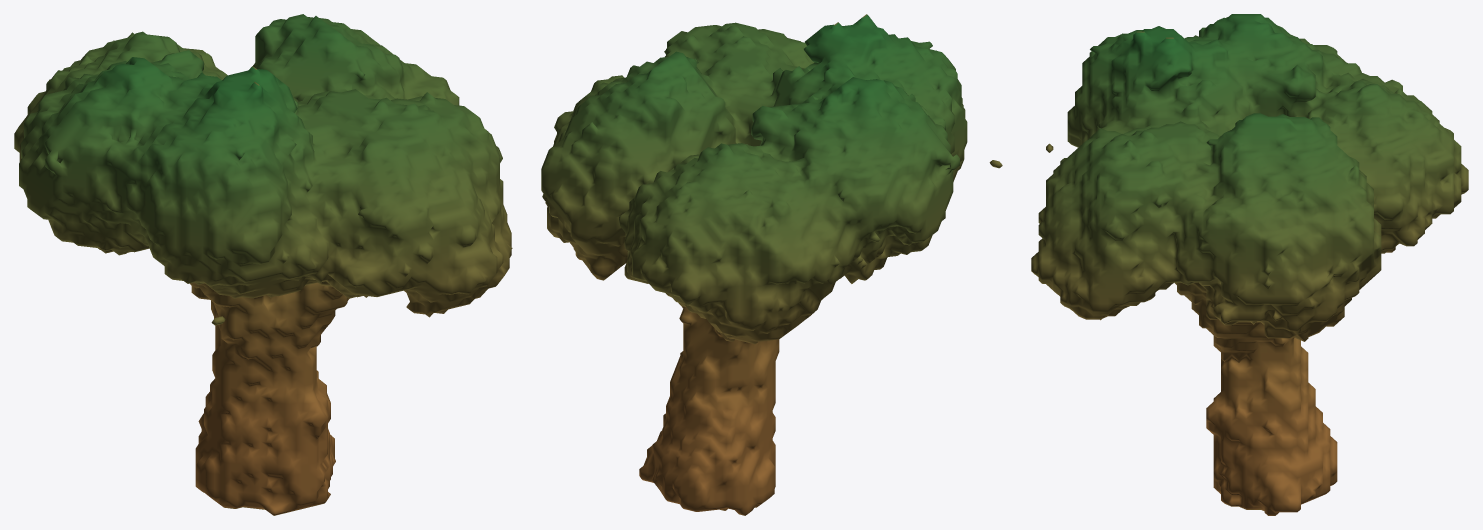
Rendered from gen2_colored.obj.
The picture shows the model from 3 angles, left to right: view 1: azimuth 30°, elevation 25°; view 2: azimuth 150°, elevation 25°; view 3: azimuth 270°, elevation 25°; orthographic projection. The views are drawn at different scales.
Size of the model in its own units: 58 by 64 by 60.
Materials: 1 (1 with a texture image).
